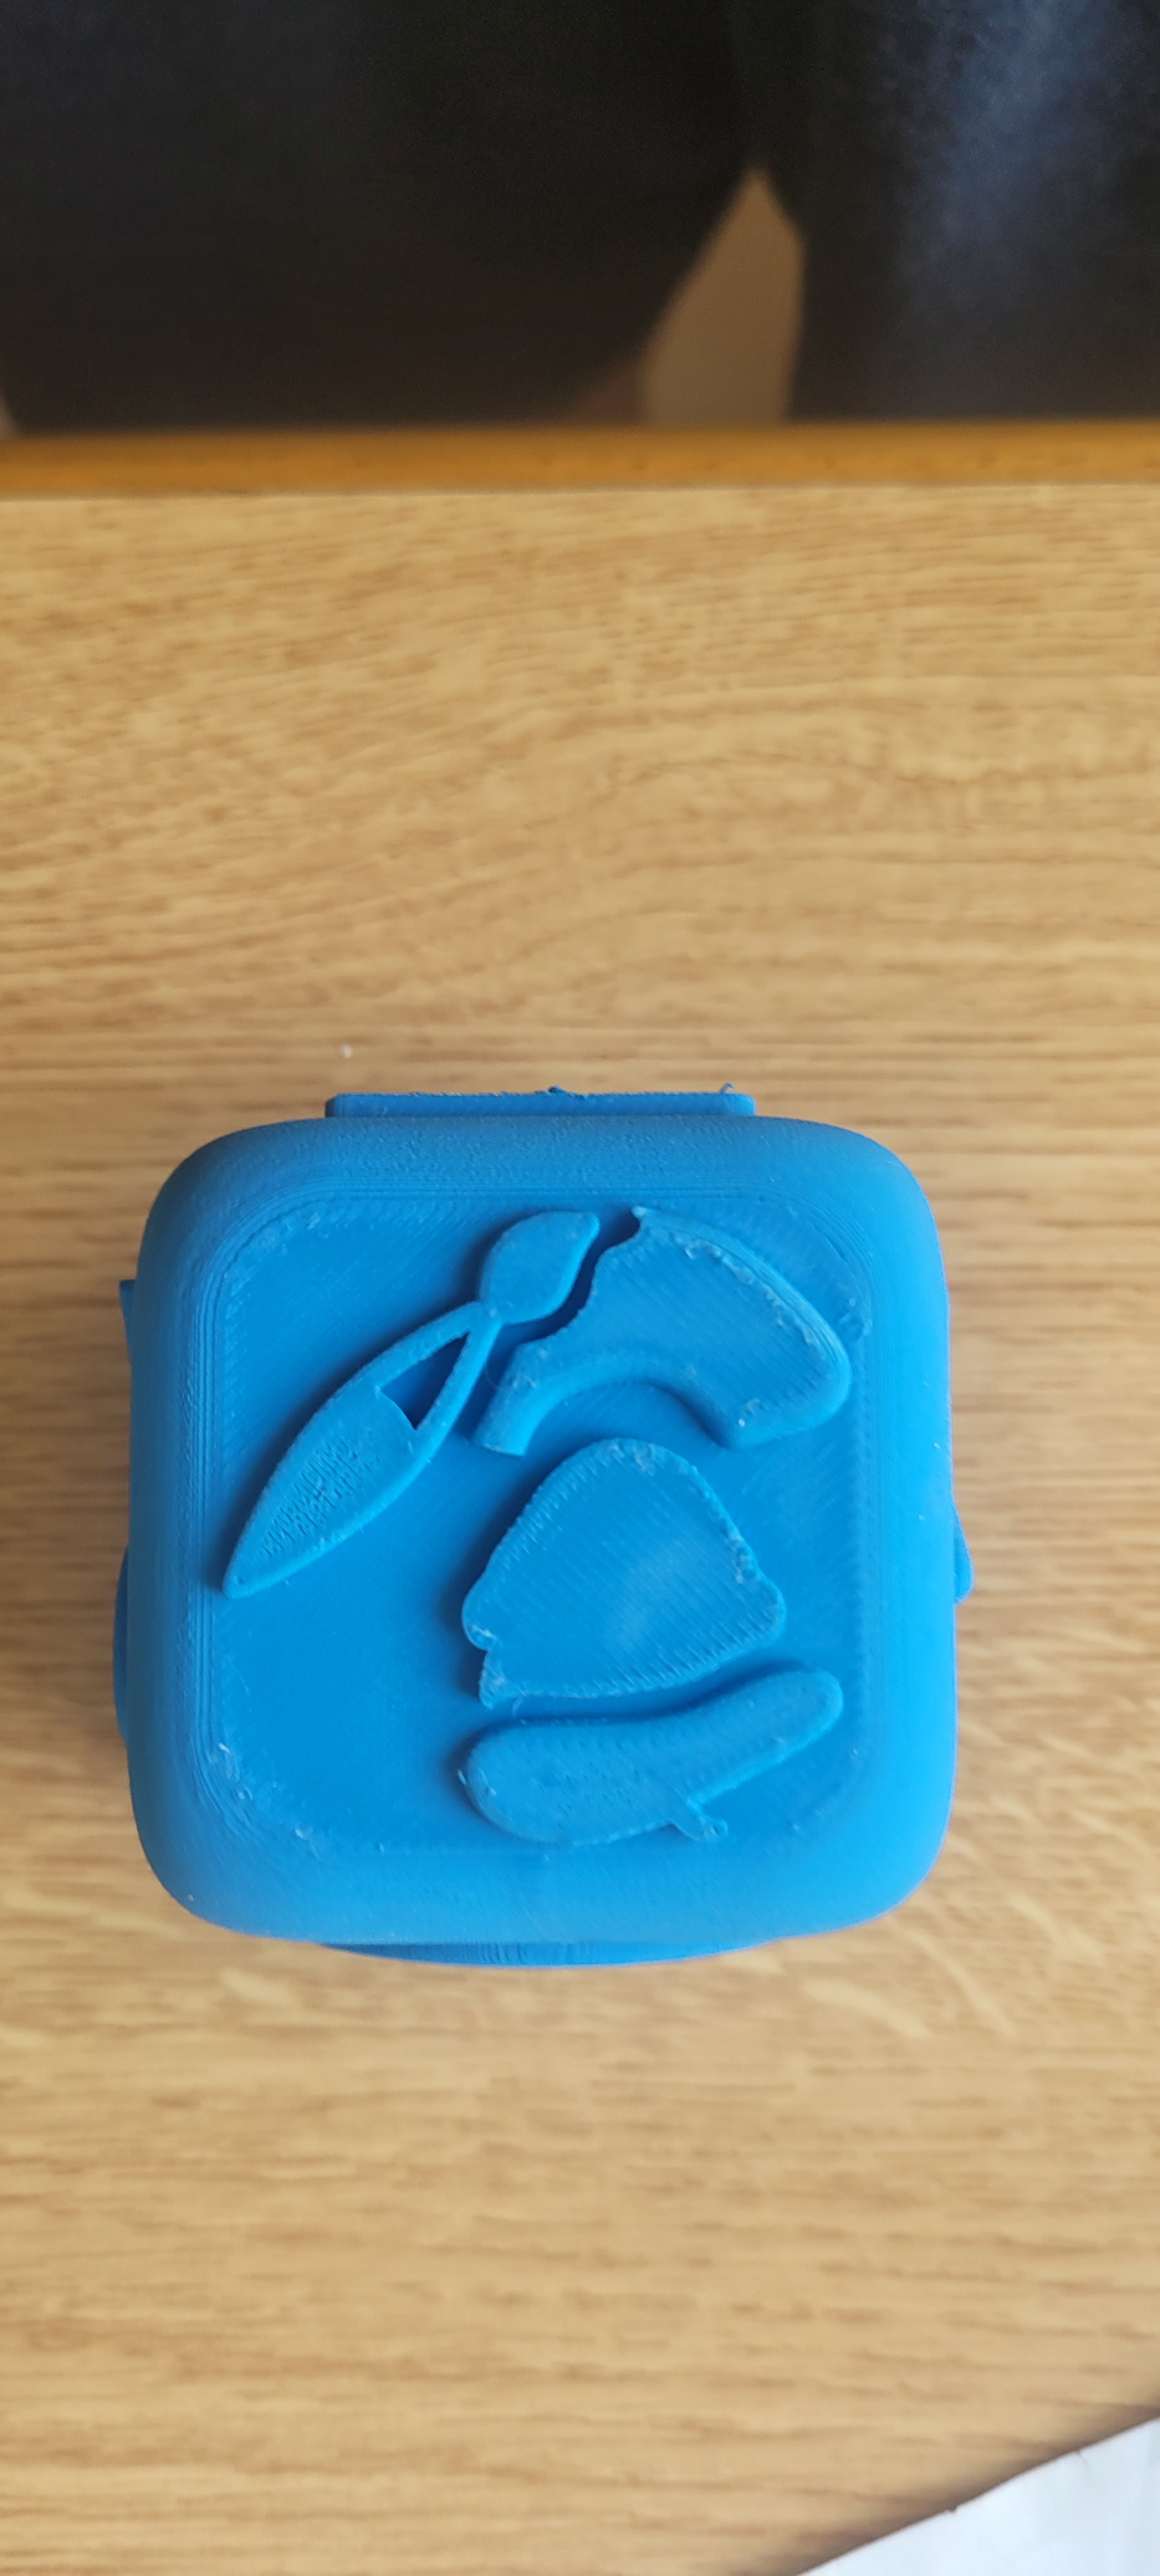Artist_Info: (181, 1073, 940, 1943)
